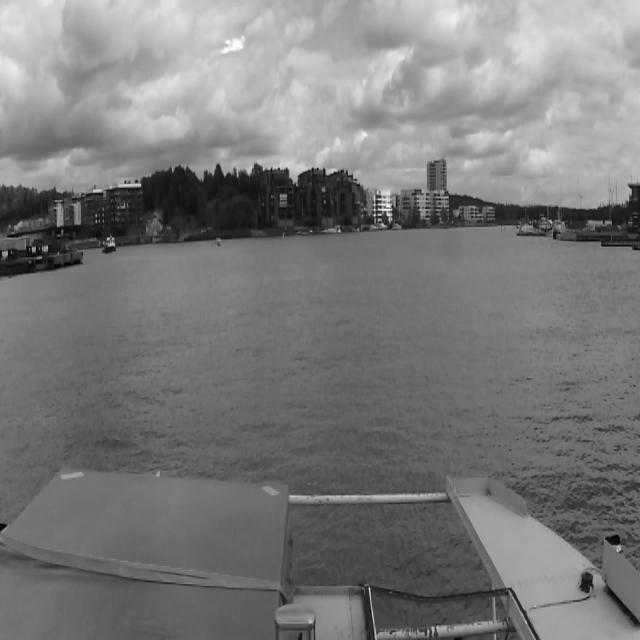buoy: (280, 222, 288, 243)
ship: (326, 191, 342, 237), (101, 235, 119, 256), (368, 223, 380, 233), (392, 221, 402, 231), (215, 235, 222, 249)
